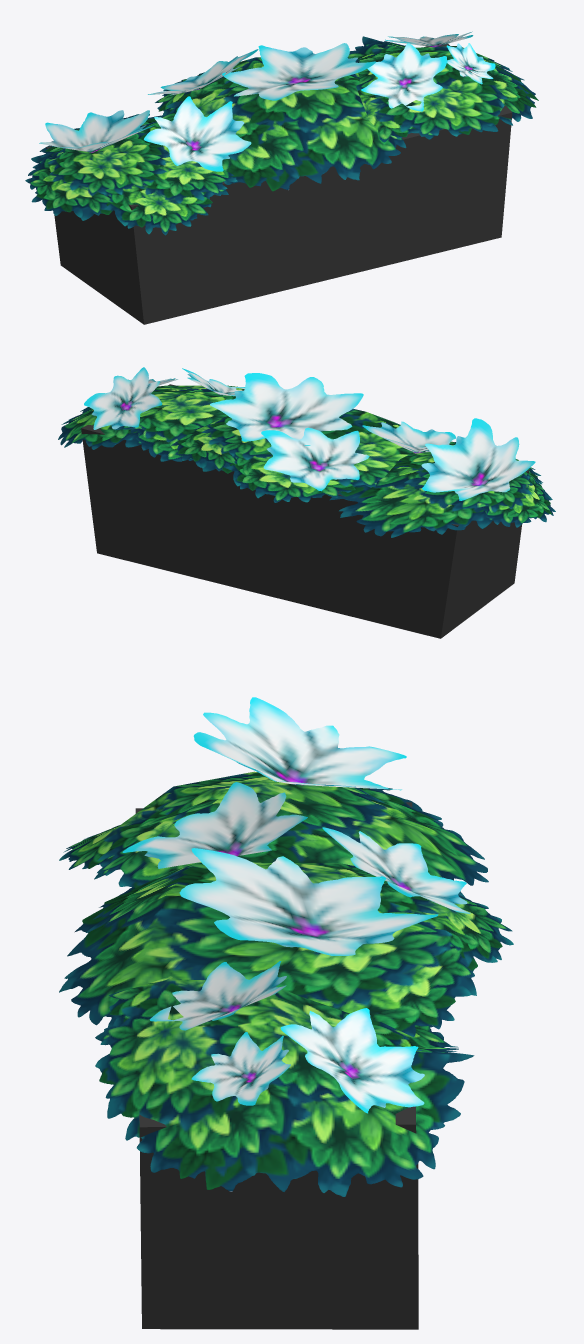
The model's file is SM_PROP_PLANT_pot_v1_04.FBX.
3 views of the same model, one above another, from view 1: azimuth 30°, elevation 25°; view 2: azimuth 150°, elevation 25°; view 3: azimuth 270°, elevation 25° (orthographic). The views are drawn at different scales.
Visible parts, largest first — view 1: SM_PROP_PLANT_pot_v1_04; view 2: SM_PROP_PLANT_pot_v1_04; view 3: SM_PROP_PLANT_pot_v1_04.
Part boxes in pixels (<box>): SM_PROP_PLANT_pot_v1_04: <box>25,31,538,324</box>; SM_PROP_PLANT_pot_v1_04: <box>58,367,555,638</box>; SM_PROP_PLANT_pot_v1_04: <box>59,697,513,1329</box>.
Size of the model in its own units: 112 by 59.89 by 40.12.
